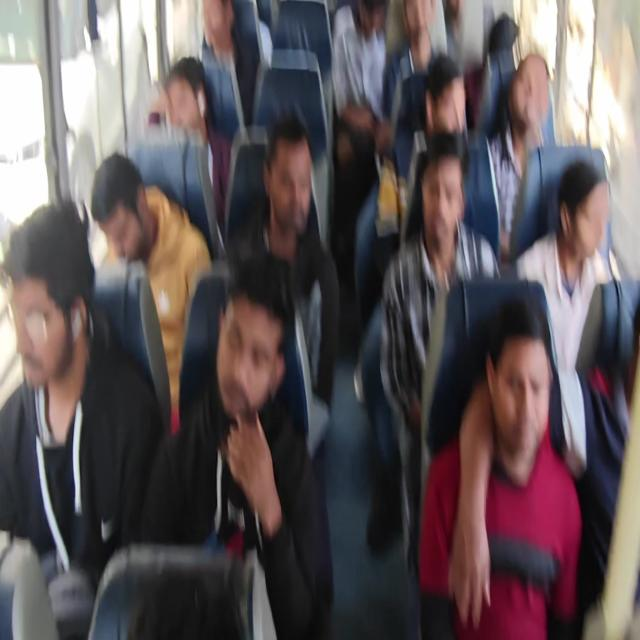person: (0, 201, 91, 399), (478, 332, 554, 460), (219, 279, 273, 427), (563, 157, 623, 281), (97, 158, 161, 271), (266, 137, 326, 247), (160, 63, 212, 156), (423, 164, 464, 246), (512, 56, 548, 136), (424, 71, 460, 137), (343, 0, 389, 46), (192, 0, 237, 45), (402, 0, 440, 53), (489, 14, 522, 64)
